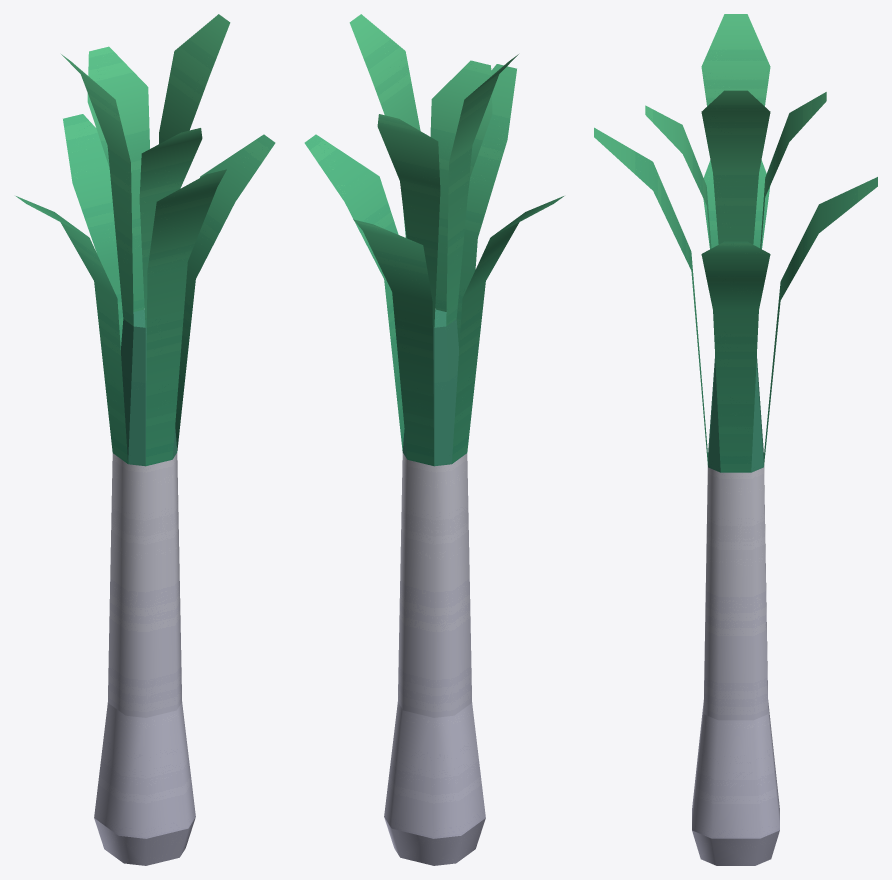
Rendered from leek.glb.
The picture shows the model from 3 angles, left to right: view 1: azimuth 30°, elevation 25°; view 2: azimuth 150°, elevation 25°; view 3: azimuth 270°, elevation 25°; orthographic projection.
Visible parts, largest first — view 1: leek; view 2: leek; view 3: leek.
Part boxes in pixels (x1,y1,x2,y2): leek: [16, 14, 275, 865]; leek: [304, 14, 563, 865]; leek: [594, 14, 877, 865].
Size of the model in its own units: 0.2729 by 0.8474 by 0.2729.
1 material, 1 textured.
